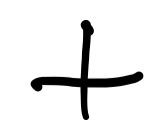plus: (29, 19, 141, 116)
